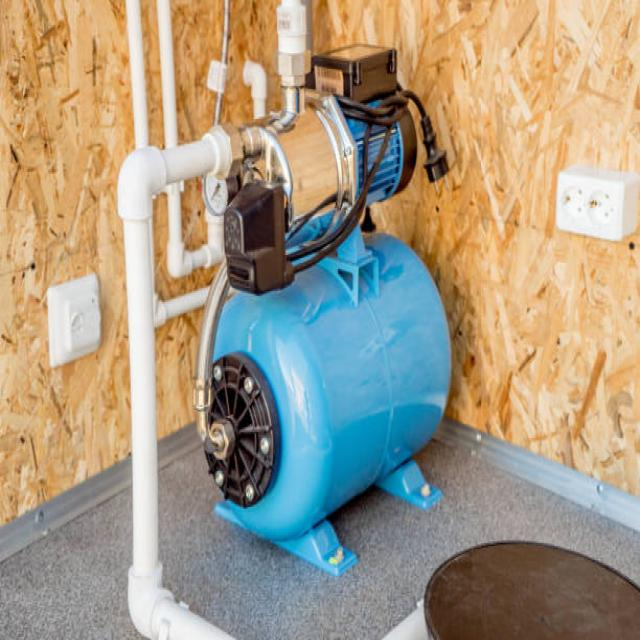compressor: (116, 2, 467, 638)
